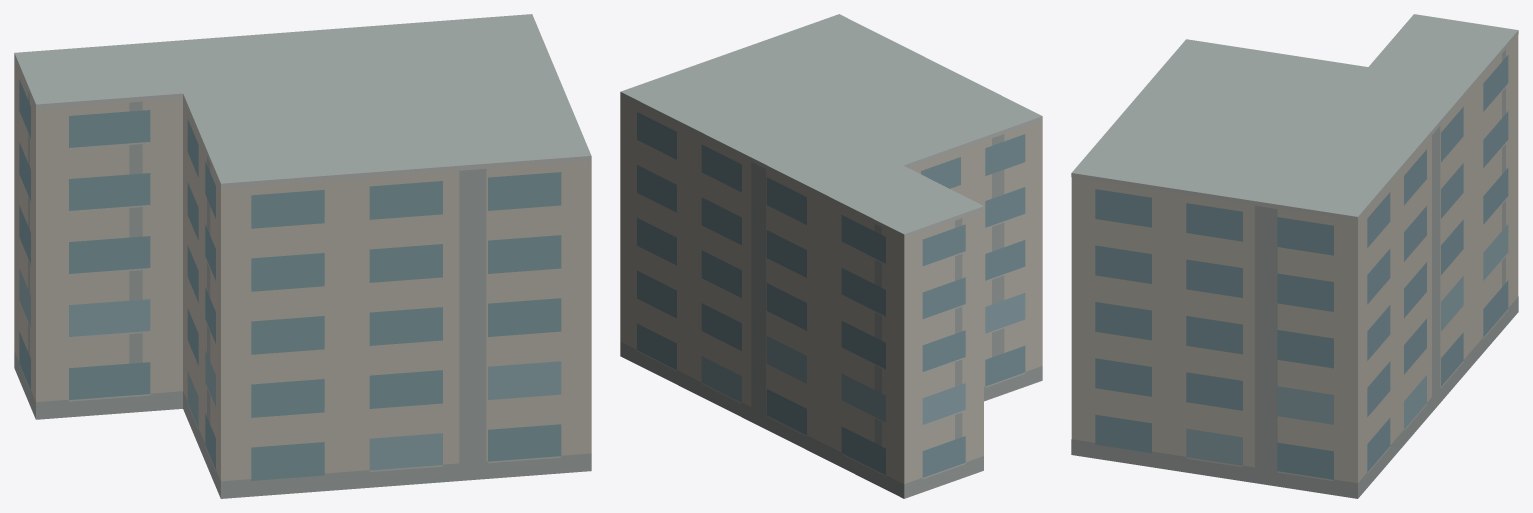
Rendered from residential-b0de7987-bc23-4ab2-8792-6c550907ee2e.glb.
3 renders of one model, left to right at view 1: azimuth 30°, elevation 25°; view 2: azimuth 150°, elevation 25°; view 3: azimuth 270°, elevation 25°, orthographic. The views are drawn at different scales.
Parts seen in each view (by area): view 1: residential-b0de7987-bc23-4ab2-8792-6c550907ee2e.tmp; view 2: residential-b0de7987-bc23-4ab2-8792-6c550907ee2e.tmp; view 3: residential-b0de7987-bc23-4ab2-8792-6c550907ee2e.tmp.
Boxes of the visible parts, x1,y1,x2,y2 form: residential-b0de7987-bc23-4ab2-8792-6c550907ee2e.tmp: (14, 14, 591, 498); residential-b0de7987-bc23-4ab2-8792-6c550907ee2e.tmp: (620, 14, 1042, 498); residential-b0de7987-bc23-4ab2-8792-6c550907ee2e.tmp: (1071, 14, 1518, 498).
Bounding box in the file's own units: 23.55 × 15.25 × 21.92.
